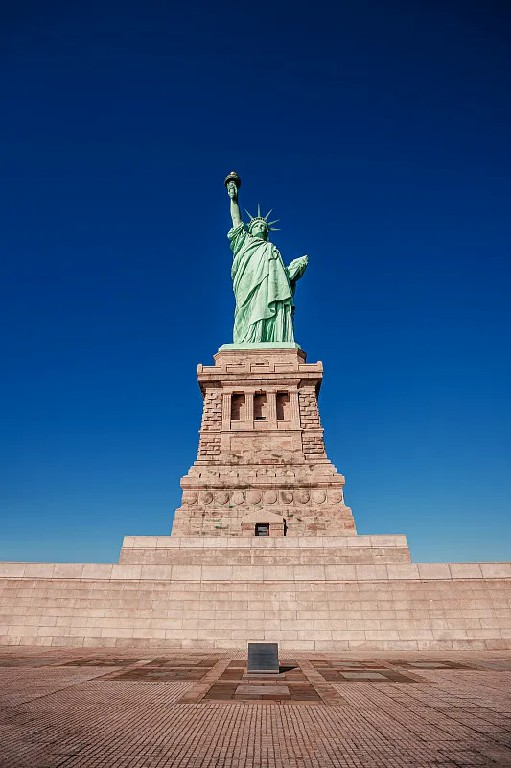SL: (169, 170, 358, 537)
